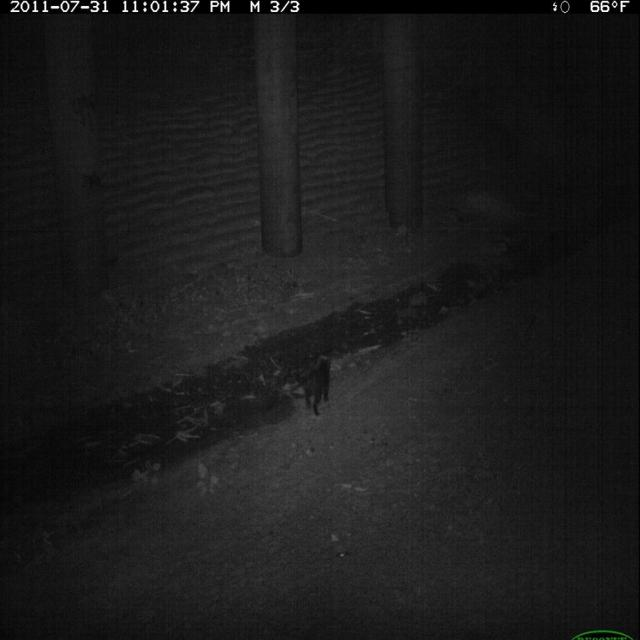cat: (292, 349, 338, 422)
